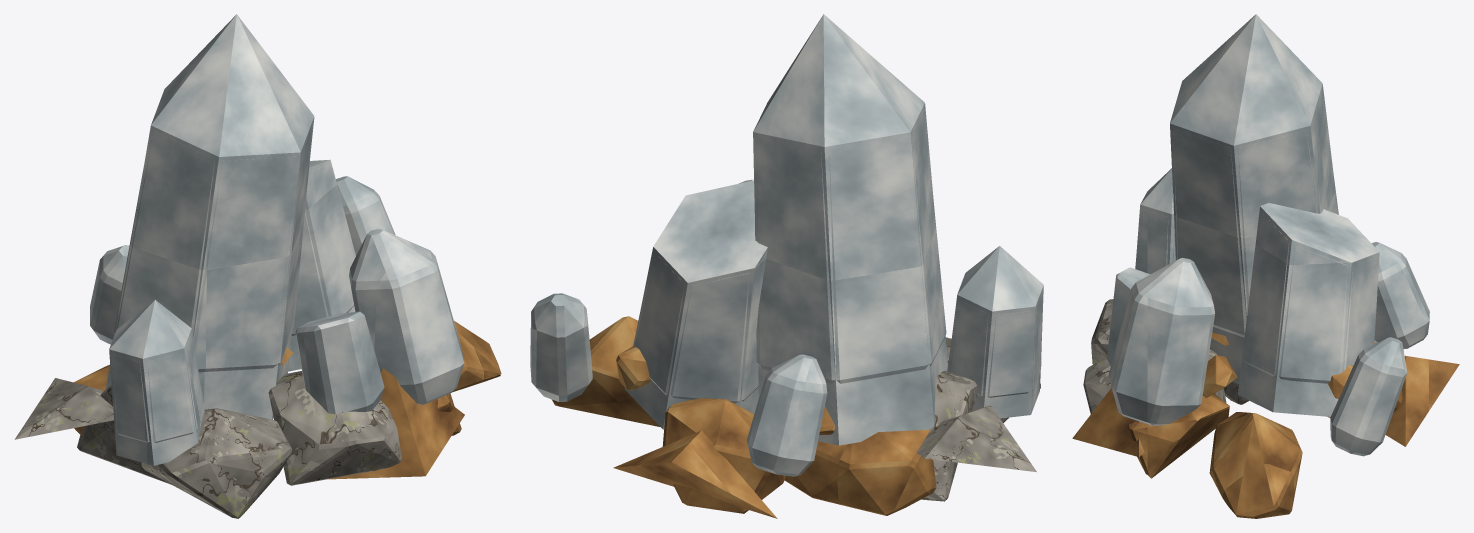
The model's file is deposit-3.glb.
The picture shows the model from 3 angles, left to right: view 1: azimuth 30°, elevation 25°; view 2: azimuth 150°, elevation 25°; view 3: azimuth 270°, elevation 25°; orthographic projection. The views are drawn at different scales.
Visible parts, largest first — view 1: MNR-deposit-3-mesh0, MNR-deposit-3-mesh1; view 2: MNR-deposit-3-mesh0, MNR-deposit-3-mesh1; view 3: MNR-deposit-3-mesh0, MNR-deposit-3-mesh1.
Boxes of the visible parts, x1,y1,x2,y2 form: MNR-deposit-3-mesh0: (74, 28, 501, 518); MNR-deposit-3-mesh1: (14, 14, 464, 479); MNR-deposit-3-mesh0: (530, 26, 1042, 515); MNR-deposit-3-mesh1: (613, 14, 1043, 518); MNR-deposit-3-mesh0: (1083, 27, 1429, 518); MNR-deposit-3-mesh1: (1072, 14, 1459, 456).
Size of the model in its own units: 0.7277 by 0.6276 by 0.5513.
3 materials, 3 textured.
